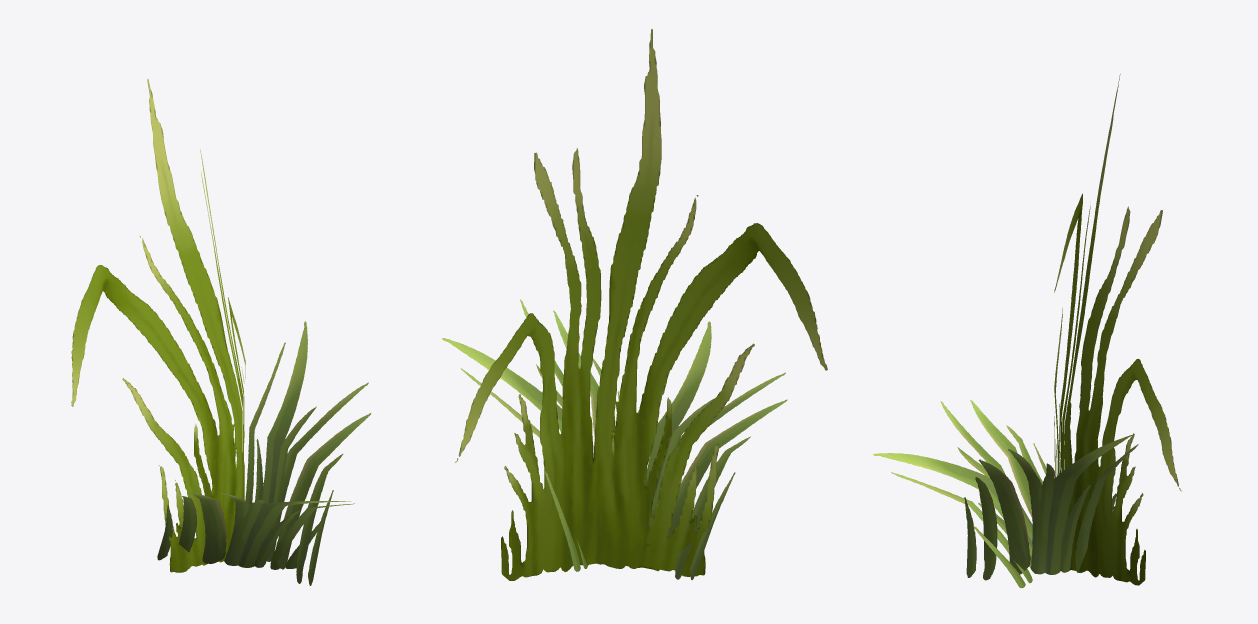
File: Grass4.fbx
3 views of the same model, side by side, from view 1: azimuth 30°, elevation 25°; view 2: azimuth 150°, elevation 25°; view 3: azimuth 270°, elevation 25° (orthographic). The views are drawn at different scales.
Parts seen in each view (by area): view 1: Grass4; view 2: Grass4; view 3: Grass4.
Part boxes in pixels (left/top/right/bottom): Grass4: left=71, top=79, right=371, bottom=585; Grass4: left=442, top=29, right=827, bottom=580; Grass4: left=873, top=74, right=1181, bottom=588.
Size of the model in its own units: 154 by 221 by 156.
